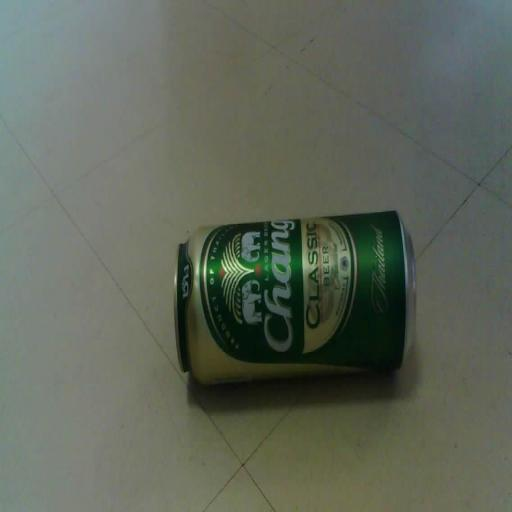canned: (154, 192, 430, 402)
